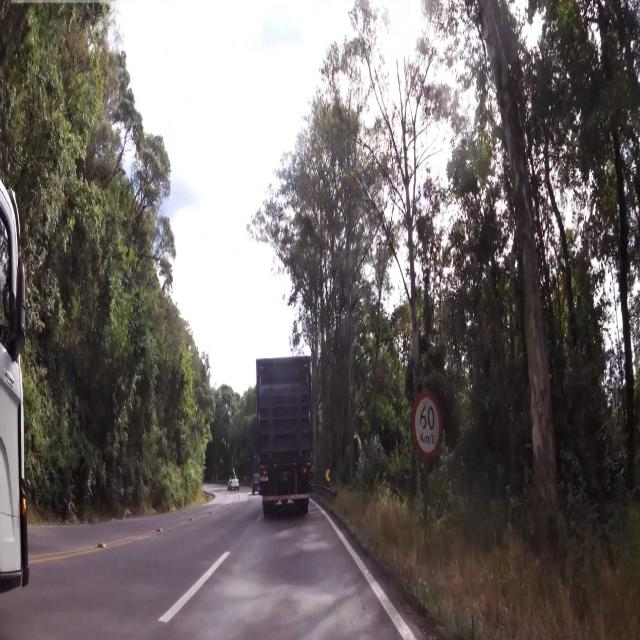R-19: (413, 379, 442, 464)
